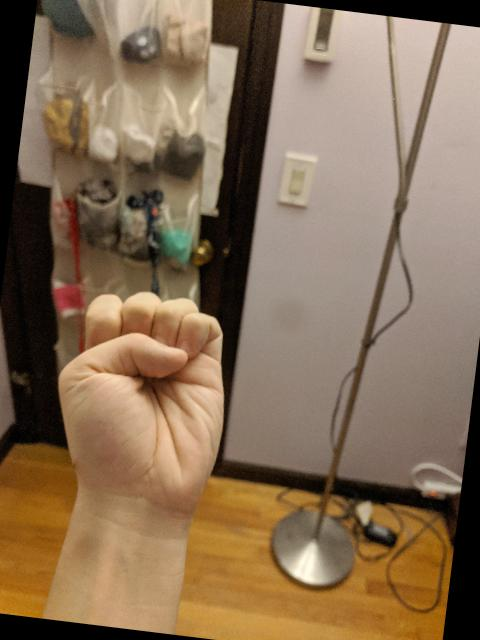E: (36, 276, 244, 530)
